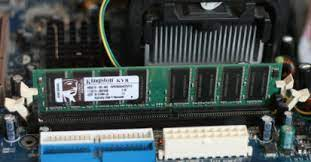ram: (32, 63, 283, 115)
